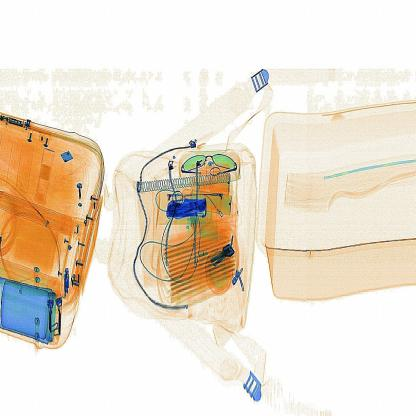knife: (163, 190, 215, 225)
